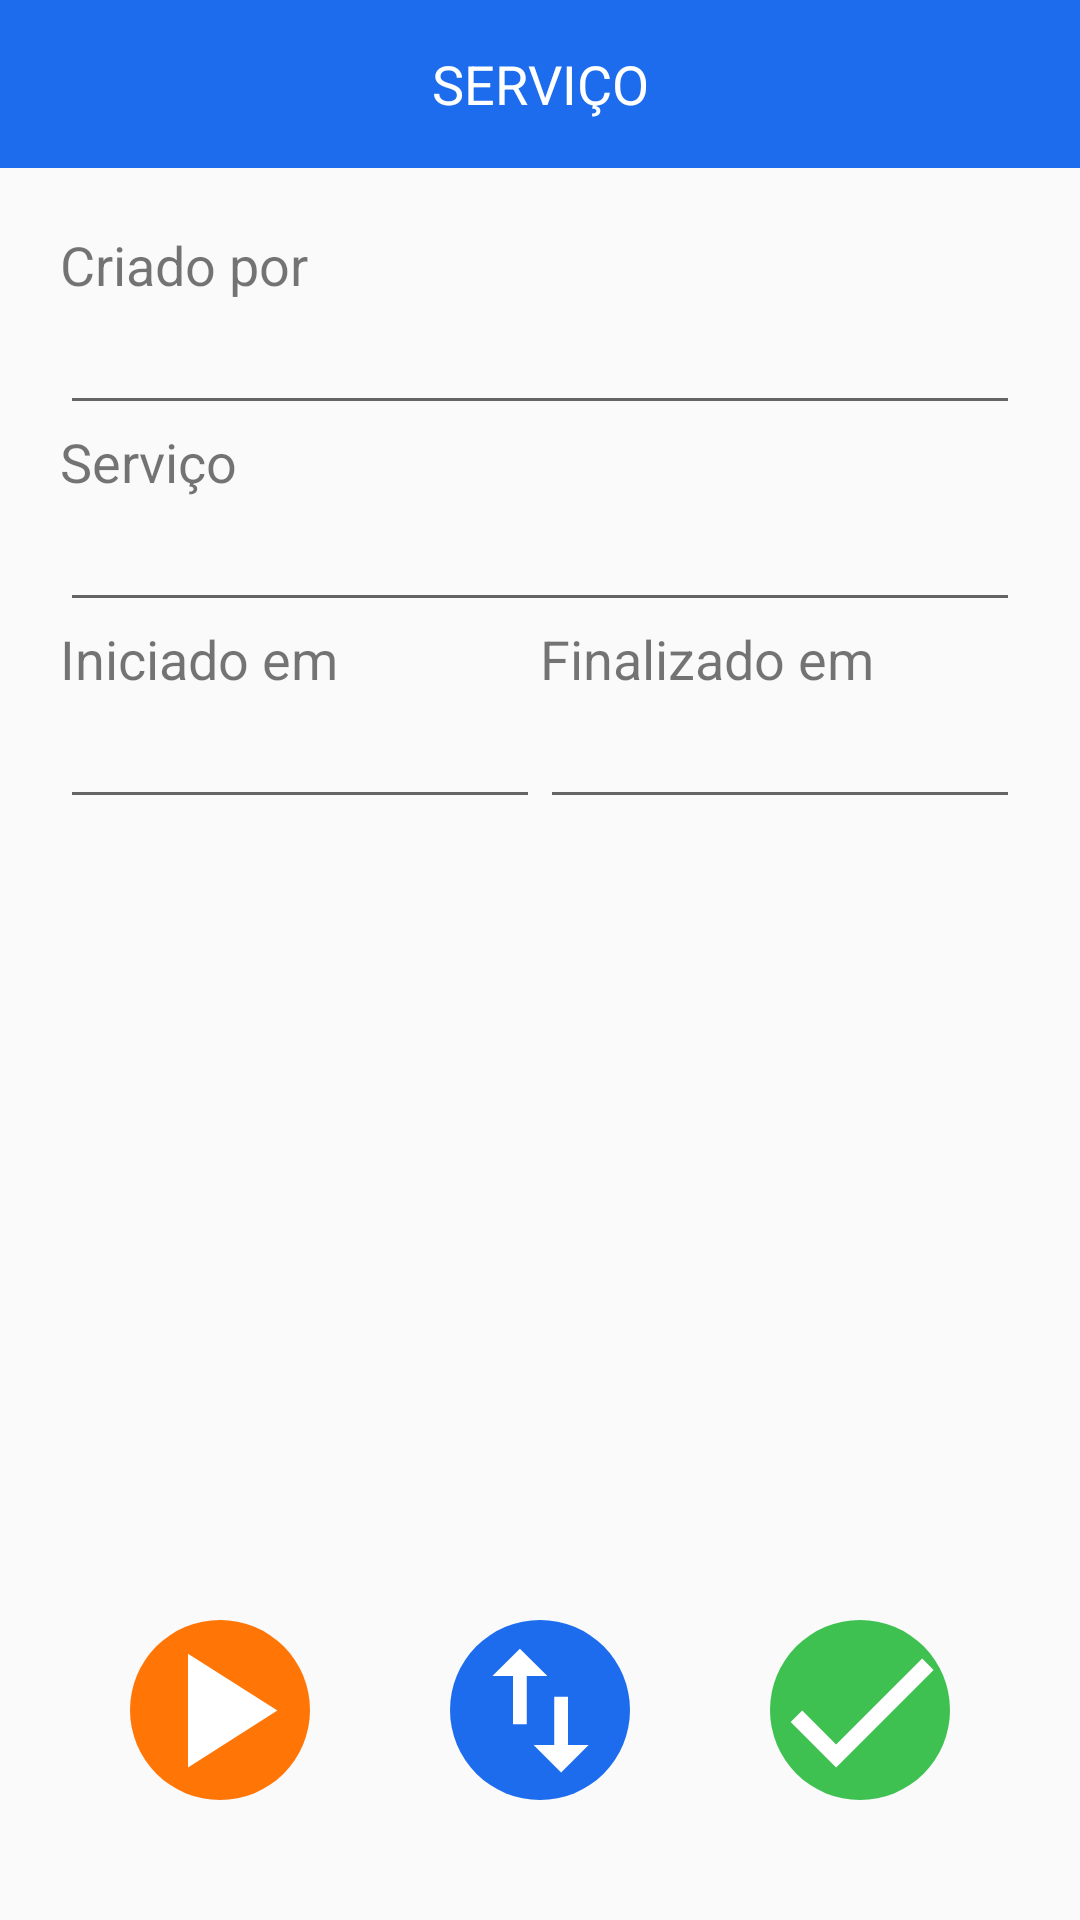

Icons on this 1080x1920 Android screen, each with its box as (x1, y1, x2, y2):
Movimentar Estoque: (450, 1620, 630, 1800)
